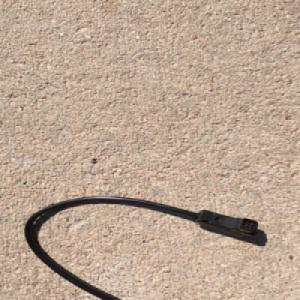Wire: (23, 194, 261, 300)
